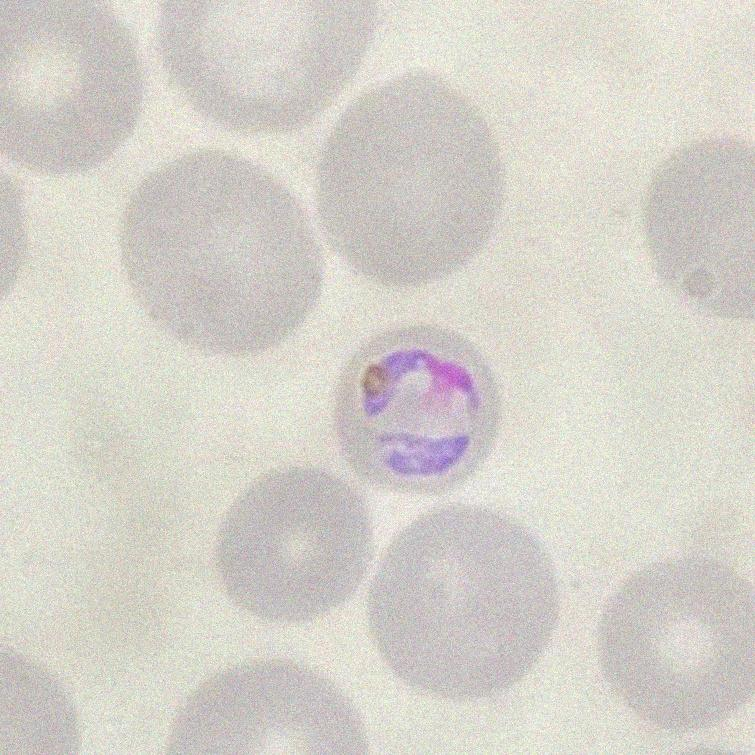Infected: (333, 316, 501, 495)
Uninfected: (124, 153, 318, 357), (321, 70, 499, 287), (376, 505, 562, 704), (163, 0, 373, 135), (599, 560, 754, 728), (0, 0, 145, 174), (217, 470, 371, 622), (639, 140, 755, 318), (169, 663, 365, 755)
